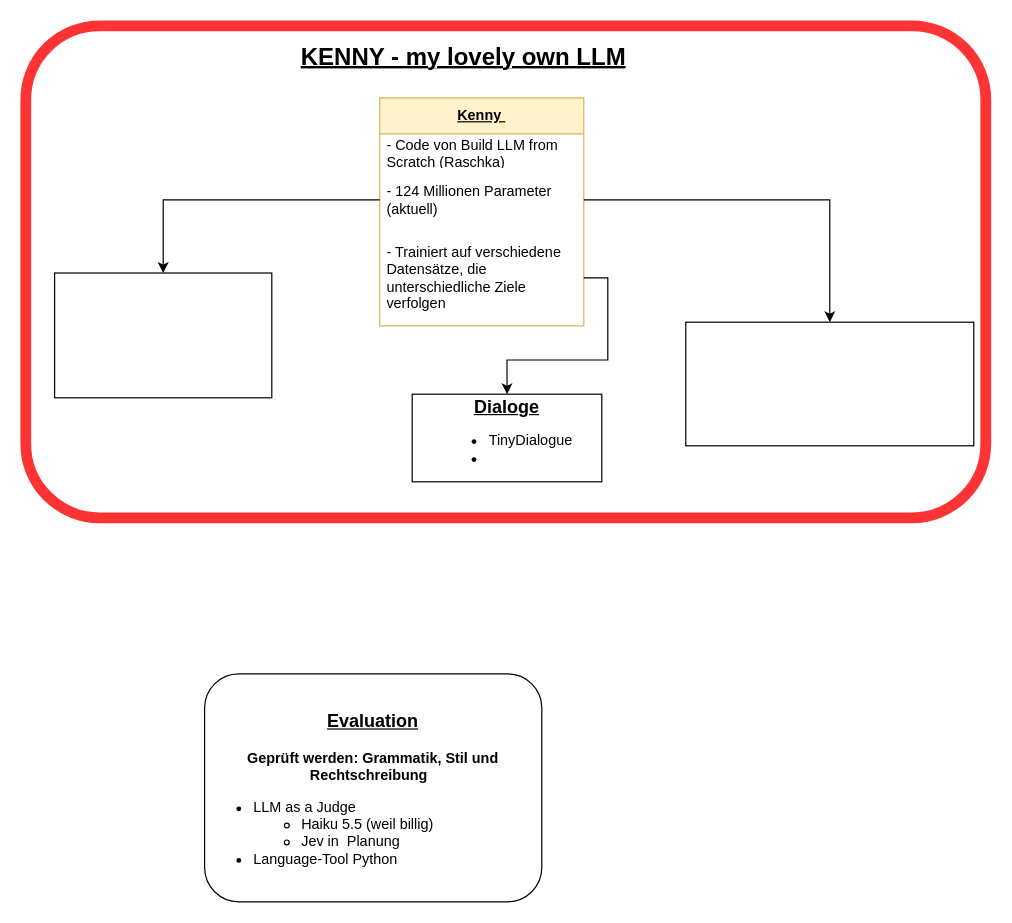
Some shapes in this 1012 by 923 pixel diagram are drawn without their labels. Here are the shapes that lost their labels. From the top down, the centre of each, then its label:
pixel 162 335: Creativity ( ✅ ) TinyStories (20% des Datensatzes)
pixel 829 383: Wissen Recherche noch nicht erfolgt, wahrscheinlich
